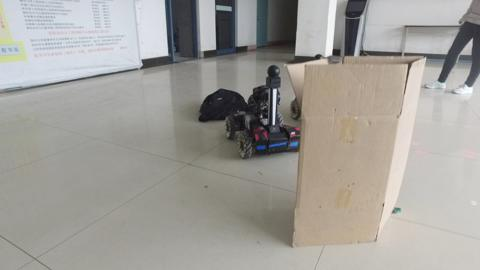box: (304, 58, 414, 246)
chariot: (222, 63, 300, 160)
